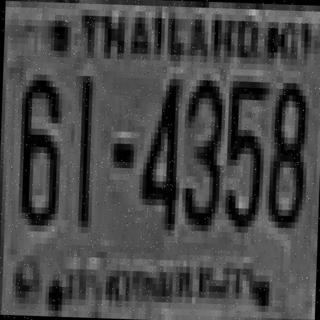N01: (74, 72, 93, 224)
N03: (181, 74, 223, 225)
N04: (138, 75, 180, 227)
N05: (222, 75, 264, 227)
N06: (15, 70, 60, 223)
N08: (264, 76, 306, 222)
